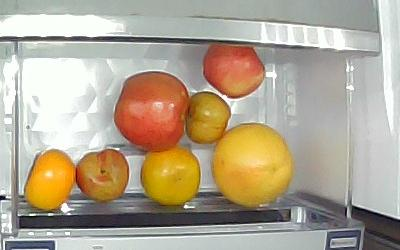apple: (114, 71, 189, 153), (203, 44, 265, 99)
grapefruit: (212, 123, 293, 209)
persimmon: (140, 148, 201, 205), (23, 149, 76, 210)
prune: (76, 149, 129, 202), (186, 91, 231, 145)
